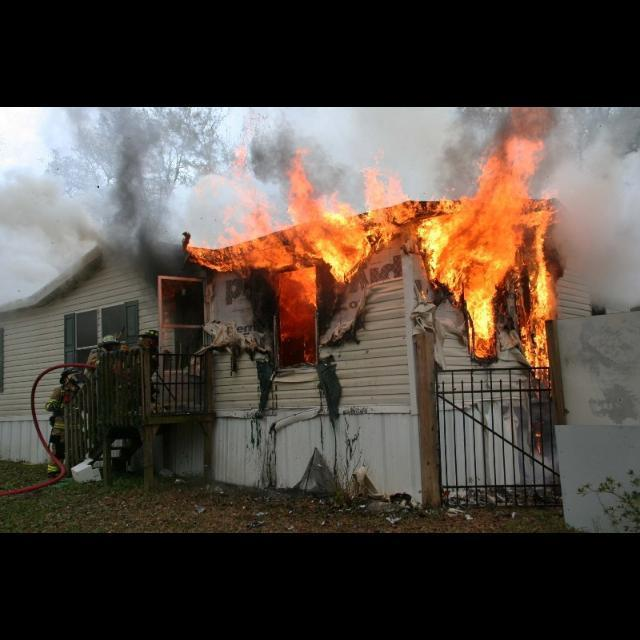Fire: (184, 136, 556, 400)
Smoke: (1, 108, 638, 306)
